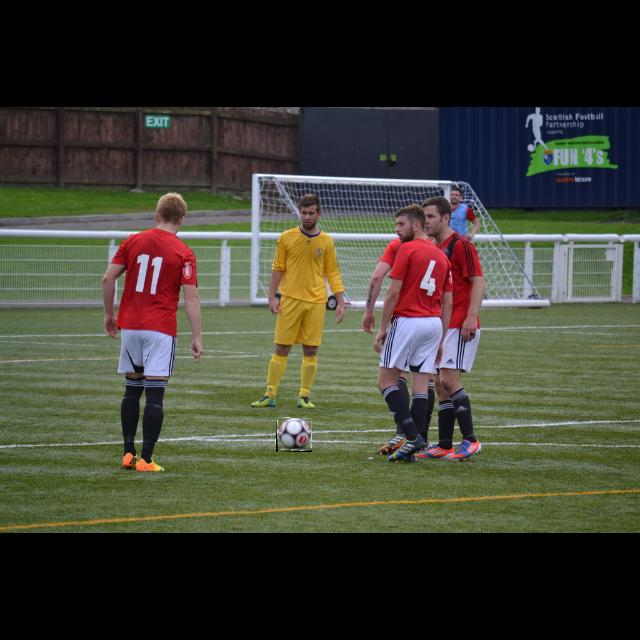Football: (276, 418, 312, 452)
